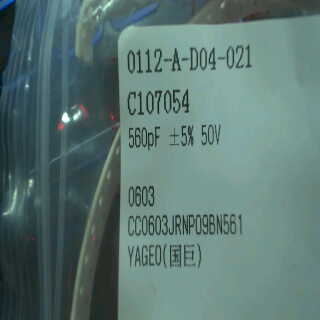560pF: (124, 123, 165, 151)
